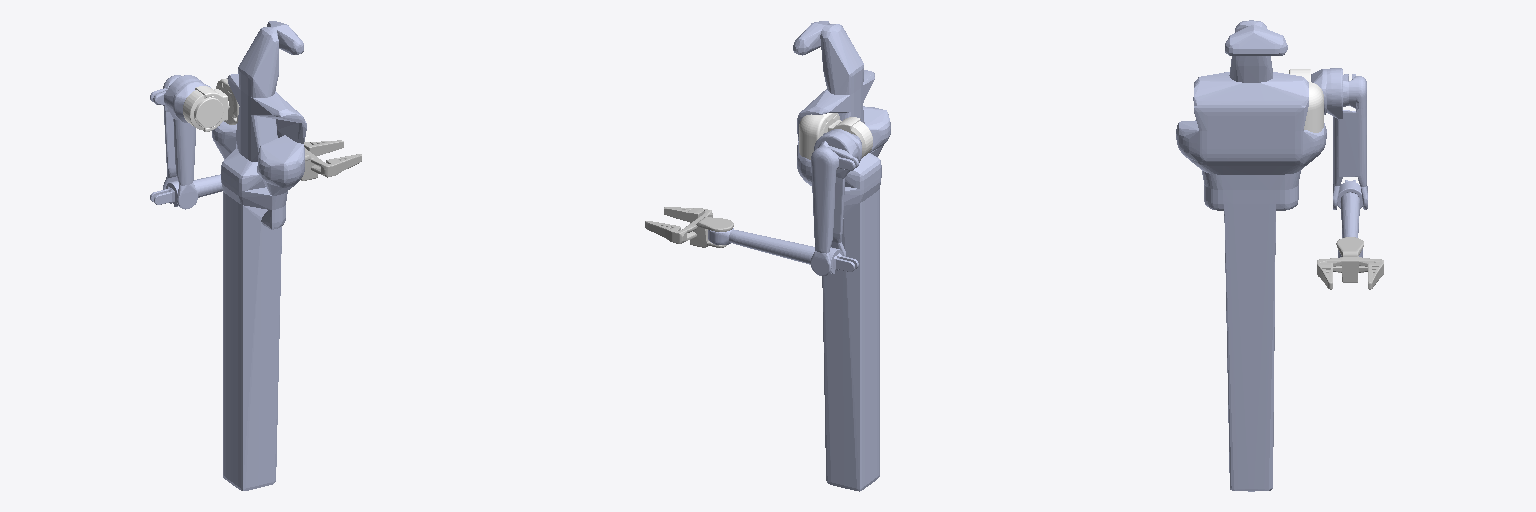
The robot description file, URDF, robot "RobotBimanualV3":
<?xml version="1.0" encoding="utf-8"?>
<!-- This URDF was automatically created by SolidWorks to URDF Exporter! Originally created by [author] ([email redacted]) 
     Commit Version: 1.6.0-4-g7f85cfe  Build Version: 1.6.7995.38578
     For more information, please see http://wiki.ros.org/sw_urdf_exporter -->
<robot
  name="RobotBimanualV3">
  <link
    name="base_link">
    <inertial>
      <origin
        xyz="0.010321 0.00065104 0.5185"
        rpy="0 0 0" />
      <mass
        value="35.545" />
      <inertia
        ixx="1.3259"
        ixy="-1.6443E-06"
        ixz="-0.00012106"
        iyy="1.3119"
        iyz="-1.547E-06"
        izz="0.026428" />
    </inertial>
    <visual>
      <origin
        xyz="0 0 0"
        rpy="0 0 0" />
      <geometry>
        <mesh
          filename="package://RobotBimanualV3/meshes/base_link_coacd.obj" />
      </geometry>
      <material
        name="">
        <color
          rgba="0.79216 0.81961 0.93333 1" />
      </material>
    </visual>
    <collision>
      <origin
        xyz="0 0 0"
        rpy="0 0 0" />
      <geometry>
        <mesh
          filename="package://RobotBimanualV3/meshes/base_link_coacd.obj" />
      </geometry>
    </collision>
  </link>
  <link
    name="link1">
    <inertial>
      <origin
        xyz="0.00277367 6.161E-05 0.05165334"
        rpy="0 0 0" />
      <mass
        value="0.706" />
      <inertia
        ixx="0.00074611"
        ixy="5.4E-07"
        ixz="5.3E-07"
        iyy="0.00054009"
        iyz="3.26E-06"
        izz="0.00050643" />
    </inertial>
    <visual>
      <origin
        xyz="0 0 0"
        rpy="0 0 0" />
      <geometry>
        <mesh
          filename="package://RobotBimanualV3/meshes/link1_coacd.obj" />
      </geometry>
      <material
        name="">
        <color
          rgba="1 1 1 1" />
      </material>
    </visual>
    <collision>
      <origin
        xyz="0 0 0"
        rpy="0 0 0" />
      <geometry>
        <mesh
          filename="package://RobotBimanualV3/meshes/link1_coacd.obj" />
      </geometry>
    </collision>
  </link>
  <joint
    name="joint1"
    type="revolute">
    <origin
      xyz="0.02 0.1037 0.8358"
      rpy="0 0 0" />
    <parent
      link="base_link" />
    <child
      link="link1" />
    <axis
      xyz="0 0 1" />
    <limit
      lower="-1.57079633"
      upper="0.87266463"
      effort="8"
      velocity="2.17" />
  </joint>
  <link
    name="link2">
    <inertial>
      <origin
        xyz="-0.00124394 -5.732E-05 0.0545228"
        rpy="0 0 0" />
      <mass
        value="0.659" />
      <inertia
        ixx="0.00064807"
        ixy="8.3E-07"
        ixz="-4.6E-07"
        iyy="0.00045162"
        iyz="-1.01E-06"
        izz="0.00043422" />
    </inertial>
    <visual>
      <origin
        xyz="0 0 0"
        rpy="0 0 0" />
      <geometry>
        <mesh
          filename="package://RobotBimanualV3/meshes/link2_coacd.obj" />
      </geometry>
      <material
        name="">
        <color
          rgba="1 1 1 1" />
      </material>
    </visual>
    <collision>
      <origin
        xyz="0 0 0"
        rpy="0 0 0" />
      <geometry>
        <mesh
          filename="package://RobotBimanualV3/meshes/link2_coacd.obj" />
      </geometry>
    </collision>
  </link>
  <joint
    name="joint2"
    type="revolute">
    <origin
      xyz="-0.020519 0.0080718 0.0528"
      rpy="-1.5708 0 1.5708" />
    <parent
      link="link1" />
    <child
      link="link2" />
    <axis
      xyz="0 0 1" />
    <limit
      lower="-0.87266463"
      upper="0.87266463"
      effort="8"
      velocity="2.17" />
  </joint>
  <link
    name="link3">
    <inertial>
      <origin
        xyz="-0.03505493 -0.006151 0.05438578"
        rpy="0 0 0" />
      <mass
        value="1.095" />
      <inertia
        ixx="0.00161847"
        ixy="0.00042205"
        ixz="-0.00104433"
        iyy="0.0066165"
        iyz="-0.0001917"
        izz="0.00653551" />
    </inertial>
    <visual>
      <origin
        xyz="0 0 0"
        rpy="0 0 0" />
      <geometry>
        <mesh
          filename="package://RobotBimanualV3/meshes/link3_coacd.obj" />
      </geometry>
      <material
        name="">
        <color
          rgba="0.79216 0.81961 0.93333 1" />
      </material>
    </visual>
    <collision>
      <origin
        xyz="0 0 0"
        rpy="0 0 0" />
      <geometry>
        <mesh
          filename="package://RobotBimanualV3/meshes/link3_coacd.obj" />
      </geometry>
    </collision>
  </link>
  <joint
    name="joint3"
    type="revolute">
    <origin
      xyz="0.014928 0 0.058031"
      rpy="-1.5708 0 -1.5708" />
    <parent
      link="link2" />
    <child
      link="link3" />
    <axis
      xyz="0 0 1" />
    <limit
      lower="-3.14159265"
      upper="0.87266463"
      effort="8"
      velocity="2.17" />
  </joint>
  <link
    name="link4">
    <inertial>
      <origin
        xyz="-0.00914828 -0.00042727 -7.12E-06"
        rpy="0 0 0" />
      <mass
        value="0.268" />
      <inertia
        ixx="9.136E-05"
        ixy="7E-08"
        ixz="-2E-08"
        iyy="0.00013894"
        iyz="0"
        izz="0.00013031" />
    </inertial>
    <visual>
      <origin
        xyz="0 0 0"
        rpy="0 0 0" />
      <geometry>
        <mesh
          filename="package://RobotBimanualV3/meshes/link4_coacd.obj" />
      </geometry>
      <material
        name="">
        <color
          rgba="0.79216 0.81961 0.93333 1" />
      </material>
    </visual>
    <collision>
      <origin
        xyz="0 0 0"
        rpy="0 0 0" />
      <geometry>
        <mesh
          filename="package://RobotBimanualV3/meshes/link4_coacd.obj" />
      </geometry>
    </collision>
  </link>
  <joint
    name="joint4"
    type="revolute">
    <origin
      xyz="-0.25 0 0.08318"
      rpy="0 0 1.5708" />
    <parent
      link="link3" />
    <child
      link="link4" />
    <axis
      xyz="0 0 1" />
    <limit
      lower="-0.78539816"
      upper="1.30899694"
      effort="8"
      velocity="2.17" />
  </joint>
  <link
    name="link5">
    <inertial>
      <origin
        xyz="-0.00143459 -5.019E-05 0.22261684"
        rpy="0 0 0" />
      <mass
        value="0.285" />
      <inertia
        ixx="0.00170458"
        ixy="1.5E-07"
        ixz="-2.111E-05"
        iyy="0.00168732"
        iyz="-5.6E-07"
        izz="7.029E-05" />
    </inertial>
    <visual>
      <origin
        xyz="0 0 0"
        rpy="0 0 0" />
      <geometry>
        <mesh
          filename="package://RobotBimanualV3/meshes/link5_coacd.obj" scale="0.9 0.9 1" />
      </geometry>
      <material
        name="">
        <color
          rgba="0.79216 0.81961 0.93333 1" />
      </material>
    </visual>
    <collision>
      <origin
        xyz="0 0 0"
        rpy="0 0 0" />
      <geometry>
        <mesh
          filename="package://RobotBimanualV3/meshes/link5_coacd.obj" scale="0.9 0.9 1"  />
      </geometry>
    </collision>
  </link>
  <joint
    name="joint5"
    type="revolute">
    <origin
      xyz="0.014 0 0"
      rpy="-1.5708 0 -1.5708" />
    <parent
      link="link4" />
    <child
      link="link5" />
    <axis
      xyz="0 0 1" />
    <limit
      lower="-1.91986218"
      upper="3.66519143"
      effort="1"
      velocity="2.17" />
  </joint>
  <link
    name="link6">
    <inertial>
      <origin
        xyz="0 0.05222536 -0.0188198"
        rpy="0 0 0" />
      <mass
        value="0.201" />
      <inertia
        ixx="0.00024939"
        ixy="0"
        ixz="0"
        iyy="0.0002157"
        iyz="-6.26E-06"
        izz="0.00036328" />
    </inertial>
    <visual>
      <origin
        xyz="0 0 0"
        rpy="0 0 0" />
      <geometry>
        <mesh
          filename="package://RobotBimanualV3/meshes/link6_coacd.obj" />
      </geometry>
      <material
        name="">
        <color
          rgba="0.82353 0.82353 0.82353 1" />
      </material>
    </visual>
    <collision>
      <origin
        xyz="0 0 0"
        rpy="0 0 0" />
      <geometry>
        <mesh
          filename="package://RobotBimanualV3/meshes/link6_coacd.obj" />
      </geometry>
    </collision>
  </link>
  <joint
    name="joint6"
    type="revolute">
    <origin
      xyz="0.01415 0 0.2633"
      rpy="1.5708 0 1.5708" />
    <parent
      link="link5" />
    <child
      link="link6" />
    <axis
      xyz="0 0 1" />
    <limit
      lower="-2.0944"
      upper="2.0944"
      effort="1"
      velocity="2.17" />
  </joint>
  <link name="tool1">
    <inertial>
      <origin
        xyz="0 0 0"
        rpy="0 0 0" />
      <mass
        value="0" />
      <inertia
        ixx="0"
        ixy="0"
        ixz="0"
        iyy="0"
        iyz="0"
        izz="0" />
    </inertial>
  </link>
  <joint name="tool1_frame" type="fixed">
    <origin xyz="0.0 0.0875 -0.01" rpy="0 0 0" />
    <parent link="link6" />
    <child link="tool1" />
  </joint>
  <!-- <link
    name="link7">
    <inertial>
      <origin
        xyz="0.00239406 -0.00016204 0.05155291"
        rpy="0 0 0" />
      <mass
        value="0.706" />
      <inertia
        ixx="0.00074592"
        ixy="-2.03E-06"
        ixz="-1.52E-06"
        iyy="0.00053798"
        iyz="-3.35E-06"
        izz="0.00050821" />
    </inertial>
    <visual>
      <origin
        xyz="0 0 0"
        rpy="0 0 0" />
      <geometry>
        <mesh
          filename="package://RobotBimanualV3/meshes/link7.obj" />
      </geometry>
      <material
        name="">
        <color
          rgba="0.79216 0.81961 0.93333 1" />
      </material>
    </visual>
    <collision>
      <origin
        xyz="0 0 0"
        rpy="0 0 0" />
      <geometry>
        <mesh
          filename="package://RobotBimanualV3/meshes/link7_coacd.obj" />
      </geometry>
    </collision>
  </link>
  <joint
    name="joint7"
    type="revolute">
    <origin
      xyz="0.02 -0.1037 0.8358"
      rpy="0 0 0" />
    <parent
      link="base_link" />
    <child
      link="link7" />
    <axis
      xyz="0 0 1" />
    <limit
      lower="0"
      upper="0"
      effort="0"
      velocity="0" />
  </joint>
  <link
    name="link8">
    <inertial>
      <origin
        xyz="-0.00124394 7.606E-05 0.05454155"
        rpy="0 0 0" />
      <mass
        value="0.659" />
      <inertia
        ixx="0.00064811"
        ixy="-1.1E-06"
        ixz="-7.3E-07"
        iyy="0.0004522"
        iyz="1.03E-06"
        izz="0.00043369" />
    </inertial>
    <visual>
      <origin
        xyz="0 0 0"
        rpy="0 0 0" />
      <geometry>
        <mesh
          filename="package://RobotBimanualV3/meshes/link8.obj" />
      </geometry>
      <material
        name="">
        <color
          rgba="1 1 1 1" />
      </material>
    </visual>
    <collision>
      <origin
        xyz="0 0 0"
        rpy="0 0 0" />
      <geometry>
        <mesh
          filename="package://RobotBimanualV3/meshes/link8_coacd.obj" />
      </geometry>
    </collision>
  </link>
  <joint
    name="joint8"
    type="revolute">
    <origin
      xyz="-0.02205 0 0.0528"
      rpy="1.5708 0 -1.5708" />
    <parent
      link="link7" />
    <child
      link="link8" />
    <axis
      xyz="0 0 1" />
    <limit
      lower="0"
      upper="0"
      effort="0"
      velocity="0" />
  </joint>
  <link
    name="link9">
    <inertial>
      <origin
        xyz="-0.03505563 0.00468094 0.05453087"
        rpy="0 0 0" />
      <mass
        value="1.095" />
      <inertia
        ixx="0.00161845"
        ixy="-0.00039365"
        ixz="-0.00105521"
        iyy="0.00662637"
        iyz="0.00018923"
        izz="0.00652496" />
    </inertial>
    <visual>
      <origin
        xyz="0 0 0"
        rpy="0 0 0" />
      <geometry>
        <mesh
          filename="package://RobotBimanualV3/meshes/link9.obj" />
      </geometry>
      <material
        name="">
        <color
          rgba="0.79216 0.81961 0.93333 1" />
      </material>
    </visual>
    <collision>
      <origin
        xyz="0 0 0"
        rpy="0 0 0" />
      <geometry>
        <mesh
          filename="package://RobotBimanualV3/meshes/link9_coacd.obj" />
      </geometry>
    </collision>
  </link>
  <joint
    name="joint9"
    type="revolute">
    <origin
      xyz="0.023 0 0.0565"
      rpy="1.5708 0 1.5708" />
    <parent
      link="link8" />
    <child
      link="link9" />
    <axis
      xyz="0 0 1" />
    <limit
      lower="0"
      upper="0"
      effort="0"
      velocity="0" />
  </joint>
  <link
    name="link10">
    <inertial>
      <origin
        xyz="-0.00914828 -0.00042727 7.13E-06"
        rpy="0 0 0" />
      <mass
        value="0.268" />
      <inertia
        ixx="9.136E-05"
        ixy="7E-08"
        ixz="2E-08"
        iyy="0.00013894"
        iyz="0"
        izz="0.00013031" />
    </inertial>
    <visual>
      <origin
        xyz="0 0 0"
        rpy="0 0 0" />
      <geometry>
        <mesh
          filename="package://RobotBimanualV3/meshes/link10.obj" />
      </geometry>
      <material
        name="">
        <color
          rgba="0.75686 0.76863 0.75294 1" />
      </material>
    </visual>
    <collision>
      <origin
        xyz="0 0 0"
        rpy="0 0 0" />
      <geometry>
        <mesh
          filename="package://RobotBimanualV3/meshes/link10_coacd.obj" />
      </geometry>
    </collision>
  </link>
  <joint
    name="joint10"
    type="revolute">
    <origin
      xyz="-0.25 0 0.08318"
      rpy="3.1416 0 -1.5708" />
    <parent
      link="link9" />
    <child
      link="link10" />
    <axis
      xyz="0 0 1" />
    <limit
      lower="0"
      upper="0"
      effort="0"
      velocity="0" />
  </joint>
  <link
    name="link11">
    <inertial>
      <origin
        xyz="-0.00590045 -0.00568974 0.20812634"
        rpy="0 0 0" />
      <mass
        value="0.312" />
      <inertia
        ixx="0.0022472"
        ixy="5.1E-07"
        ixz="-7.155E-05"
        iyy="0.00222987"
        iyz="-6.013E-05"
        izz="7.85E-05" />
    </inertial>
    <visual>
      <origin
        xyz="0 0 0"
        rpy="0 0 0" />
      <geometry>
        <mesh
          filename="package://RobotBimanualV3/meshes/link11.obj" />
      </geometry>
      <material
        name="">
        <color
          rgba="0.79216 0.81961 0.93333 1" />
      </material>
    </visual>
    <collision>
      <origin
        xyz="0 0 0"
        rpy="0 0 0" />
      <geometry>
        <mesh
          filename="package://RobotBimanualV3/meshes/link11_coacd.obj" />
      </geometry>
    </collision>
  </link>
  <joint
    name="joint11"
    type="revolute">
    <origin
      xyz="0.014 0 0"
      rpy="-1.5708 0 -1.5708" />
    <parent
      link="link10" />
    <child
      link="link11" />
    <axis
      xyz="0 0 1" />
    <limit
      lower="0"
      upper="0"
      effort="0"
      velocity="0" />
  </joint>
  <link
    name="link12">
    <inertial>
      <origin
        xyz="0 -0.03647862 -0.00513209"
        rpy="0 0 0" />
      <mass
        value="0.069" />
      <inertia
        ixx="5.058E-05"
        ixy="0"
        ixz="0"
        iyy="2.639E-05"
        iyz="-9.98E-06"
        izz="6.138E-05" />
    </inertial>
    <visual>
      <origin
        xyz="0 0 0"
        rpy="0 0 0" />
      <geometry>
        <mesh
          filename="package://RobotBimanualV3/meshes/link12.obj" />
      </geometry>
      <material
        name="">
        <color
          rgba="0.82353 0.82353 0.82353 1" />
      </material>
    </visual>
    <collision>
      <origin
        xyz="0 0 0"
        rpy="0 0 0" />
      <geometry>
        <mesh
          filename="package://RobotBimanualV3/meshes/link12_coacd.obj" />
      </geometry>
    </collision>
  </link>
  <joint
    name="joint12"
    type="revolute">
    <origin
      xyz="0.01415 0 0.2633"
      rpy="1.5708 0 1.5708" />
    <parent
      link="link11" />
    <child
      link="link12" />
    <axis
      xyz="0 0 1" />
    <limit
      lower="0"
      upper="0"
      effort="0"
      velocity="0" />
  </joint> -->
</robot>

--- Render facts (derived) ---
The picture shows the robot from 3 angles, left to right: view 1: azimuth 30°, elevation 25°; view 2: azimuth 150°, elevation 25°; view 3: azimuth 270°, elevation 25°; orthographic projection.
Robot: RobotBimanualV3 — 8 links, 7 joints (6 revolute, 1 fixed); root link base_link; default pose: all joints at 0.
Visible links, largest first — view 1: base_link, link3, link2, link6; view 2: base_link, link3, link6, link5, link1, link2; view 3: base_link, link3, link6, link5, link1.
Link boxes in pixels (bbox=[...]): base_link: bbox=[212, 21, 306, 490]; link3: bbox=[150, 75, 210, 209]; link2: bbox=[183, 86, 229, 131]; link6: bbox=[301, 140, 361, 180]; base_link: bbox=[793, 21, 890, 491]; link3: bbox=[811, 129, 861, 275]; link6: bbox=[645, 207, 733, 247]; link5: bbox=[708, 228, 814, 264]; link1: bbox=[799, 113, 839, 159]; link2: bbox=[828, 117, 872, 157]; base_link: bbox=[1176, 20, 1326, 491]; link3: bbox=[1311, 68, 1367, 209]; link6: bbox=[1317, 237, 1383, 289]; link5: bbox=[1338, 192, 1362, 257]; link1: bbox=[1304, 82, 1323, 132].
Bounding box of the posed robot: 0.5186 × 0.4407 × 1.11 m (x, y, z).
Meshes: 7 distinct files referenced, 7 mesh visuals loaded (7 OBJ).